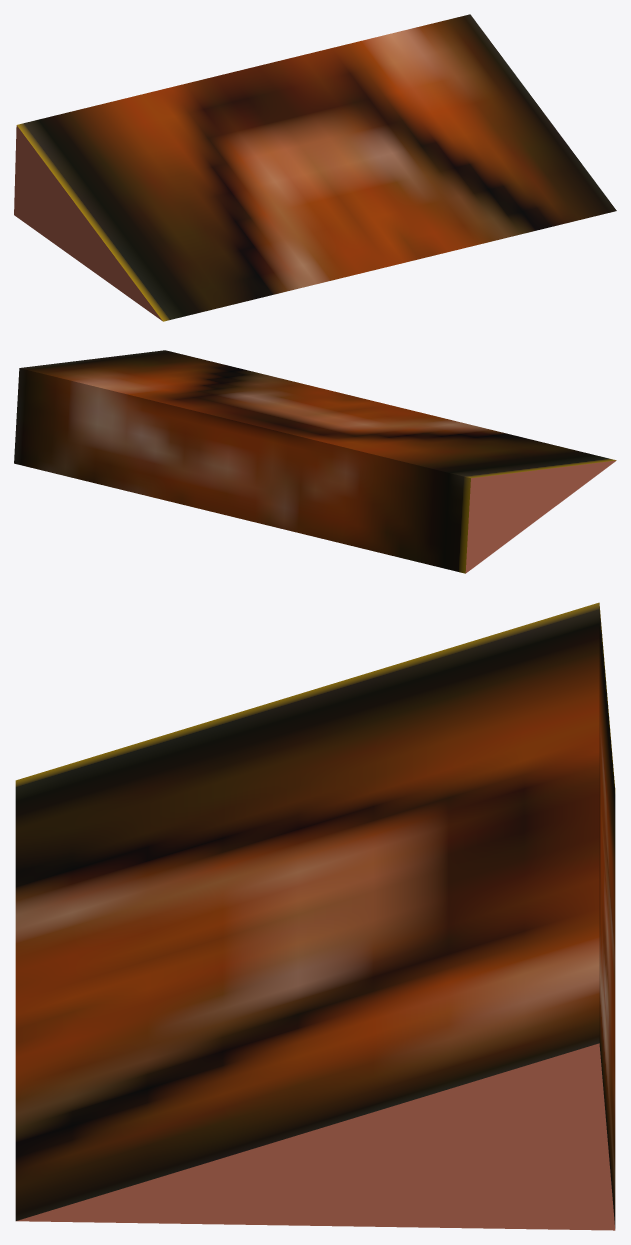
Rendered from Geldbörserl_2691.glb.
3 views of the same model, one above another, from view 1: azimuth 30°, elevation 25°; view 2: azimuth 150°, elevation 25°; view 3: azimuth 270°, elevation 25° (orthographic). The views are drawn at different scales.
Visible parts, largest first — view 1: pPlaneShape1, polySurfaceShape1; view 2: pPlaneShape1, polySurfaceShape1; view 3: pPlaneShape1, polySurfaceShape2.
Boxes of the visible parts, x1=… form: pPlaneShape1: x1=17, y1=14, x2=616, y2=321; polySurfaceShape1: x1=14, y1=125, x2=162, y2=320; pPlaneShape1: x1=14, y1=350, x2=615, y2=573; polySurfaceShape1: x1=465, y1=460, x2=616, y2=573; pPlaneShape1: x1=15, y1=602, x2=615, y2=1228; polySurfaceShape2: x1=16, y1=1043, x2=615, y2=1230.
Size of the model in its own units: 0.0536 by 0.0105 by 0.0307.
3 materials, 1 textured.
